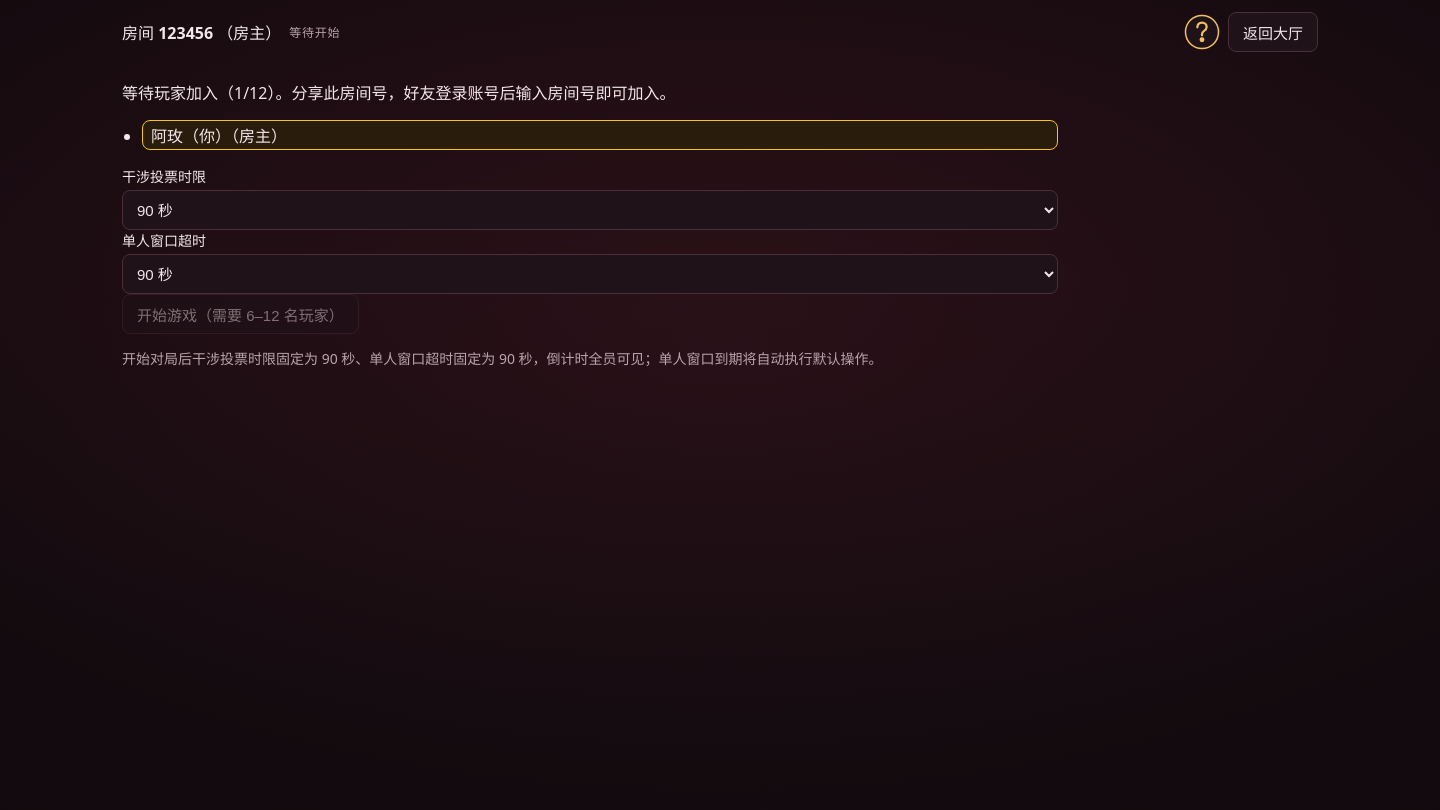
Test: 对局页页头？入口 › 等待房点？打开规则浮层，Escape 关闭
expect the dialog "规则与图例" is not shown: met
Click the button named "规则与图例". click: (1202, 32)
box: [1184,14,1220,50]
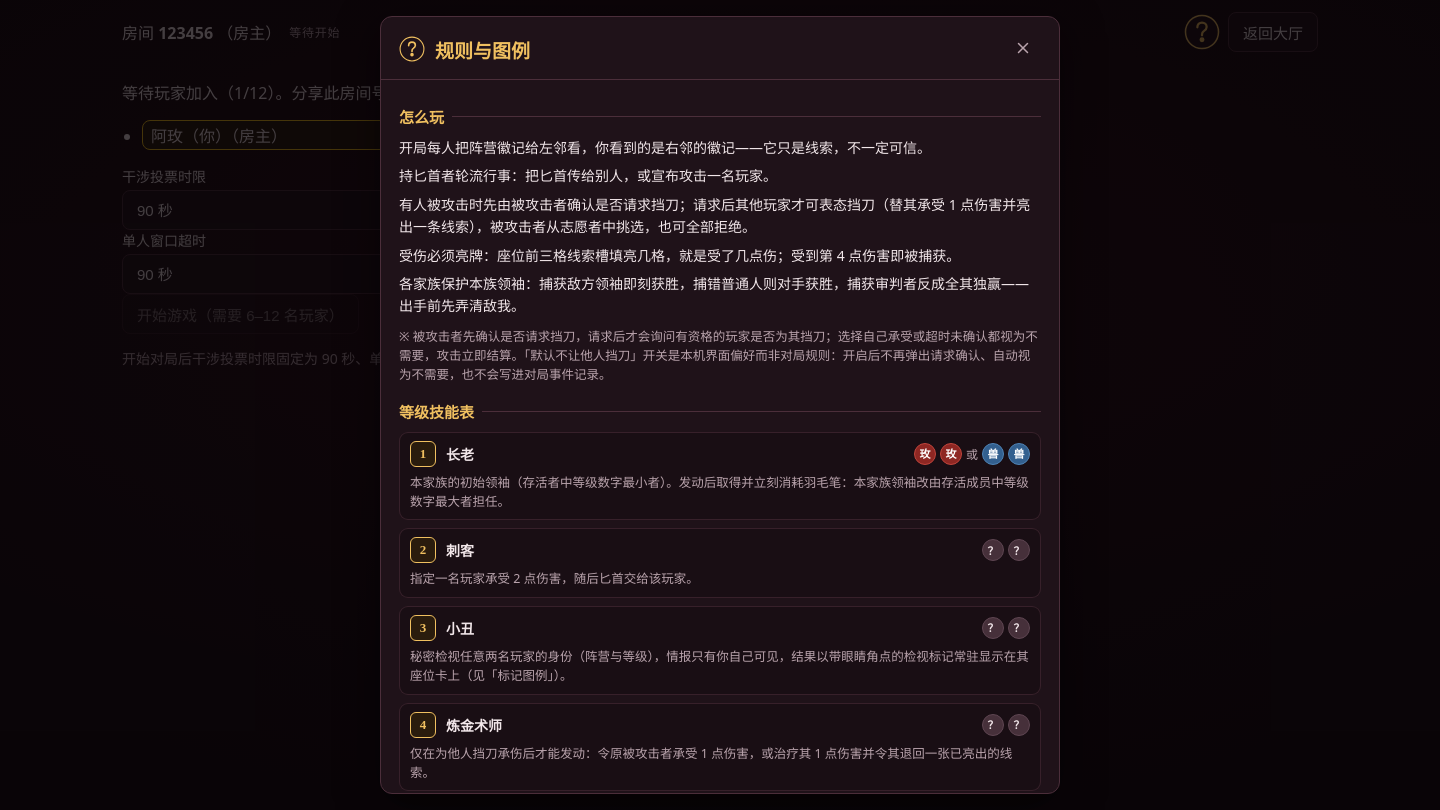
expect the dialog "规则与图例" is shown: met, box [380,16,1060,794]
Press Escape
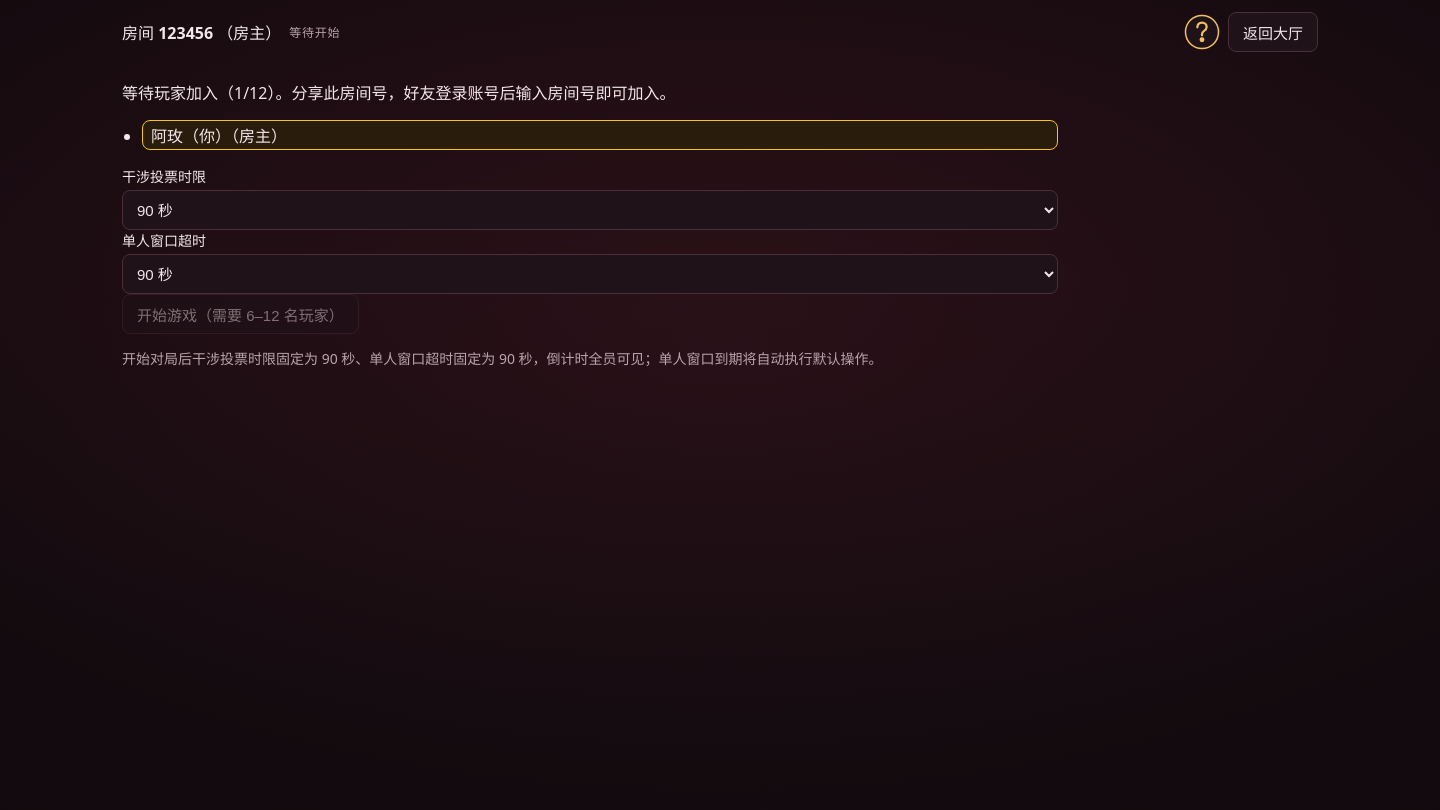
expect the heading "规则与图例" is gone: met
